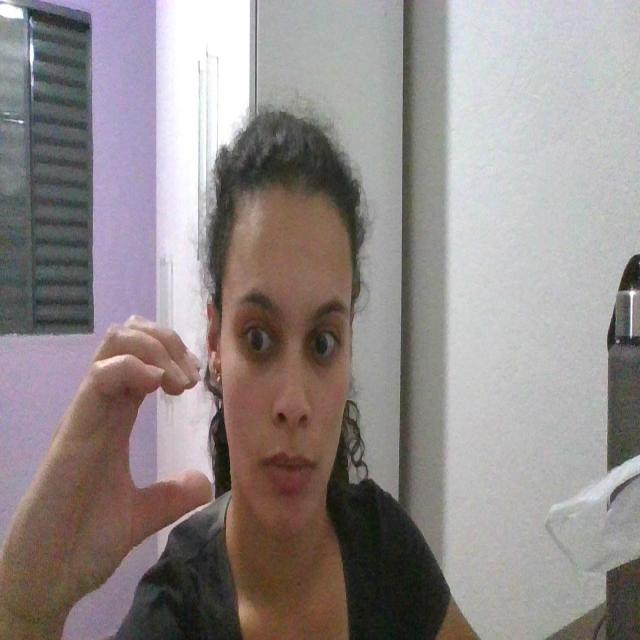C: (33, 306, 218, 569)
